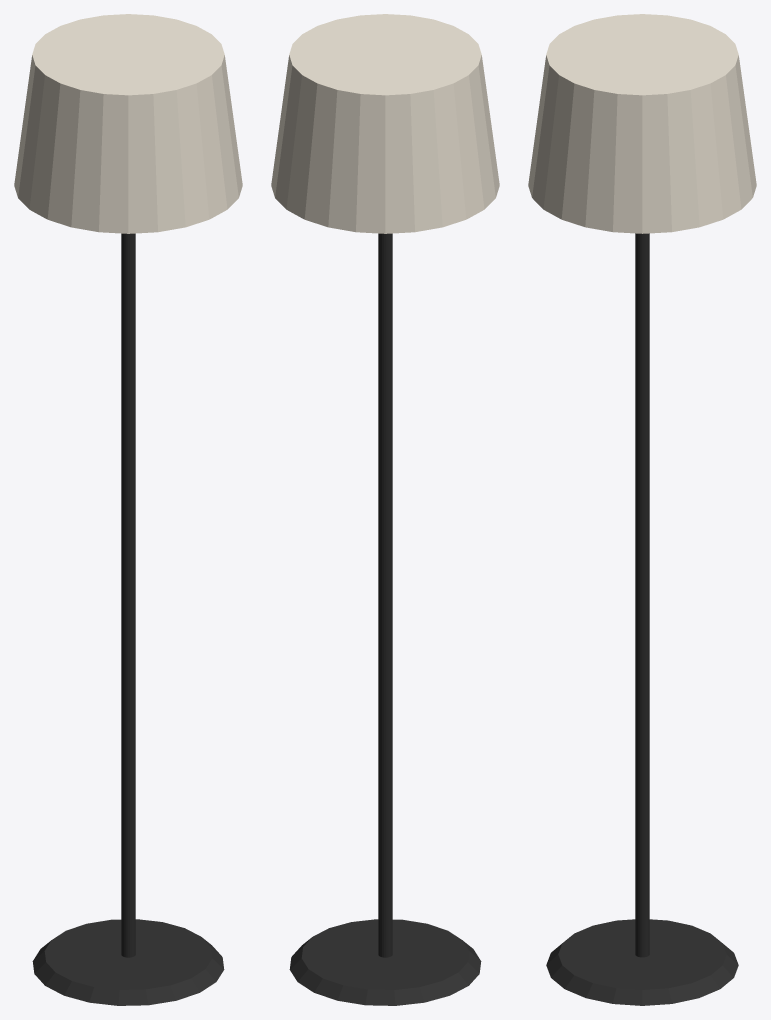
Rendered from floorLamp.glb.
The picture shows the model from 3 angles, left to right: view 1: azimuth 30°, elevation 25°; view 2: azimuth 150°, elevation 25°; view 3: azimuth 270°, elevation 25°; orthographic projection.
Visible parts, largest first — view 1: lampShade, base.001, pole; view 2: lampShade, base.001, pole; view 3: lampShade, base.001, pole.
Boxes of the visible parts, box(x1,y1,x2,y2) form: lampShade: box(14, 14, 242, 233); base.001: box(32, 919, 224, 1005); pole: box(121, 233, 135, 957); lampShade: box(271, 14, 499, 233); base.001: box(289, 919, 481, 1005); pole: box(378, 233, 392, 957); lampShade: box(528, 14, 756, 233); base.001: box(546, 919, 738, 1005); pole: box(635, 233, 649, 957).
Bounding box in the file's own units: 0.38 × 1.67 × 0.38.
